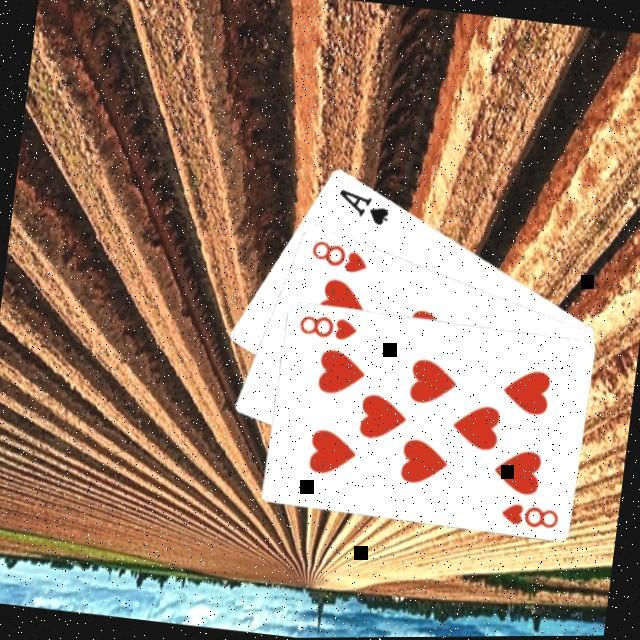8H: (303, 235, 371, 279), (292, 309, 359, 345), (494, 499, 560, 533)
AS: (330, 184, 392, 230)
